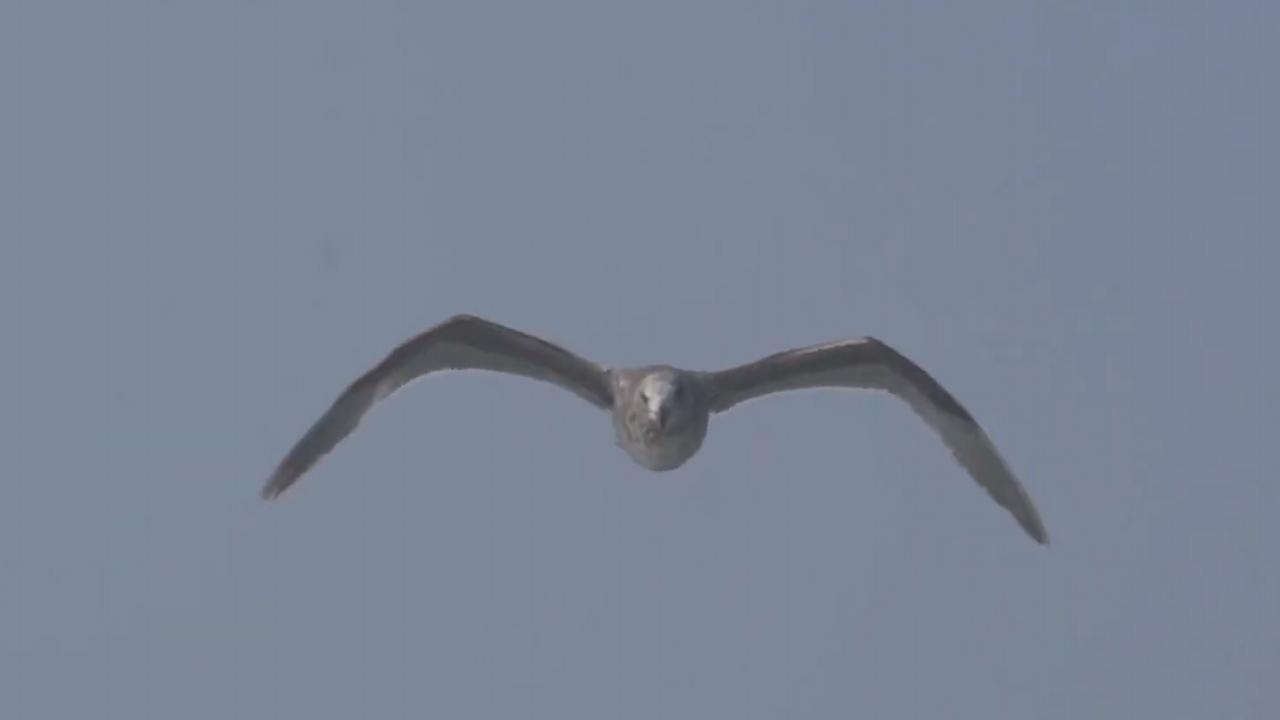Bird: (255, 304, 1059, 561)
